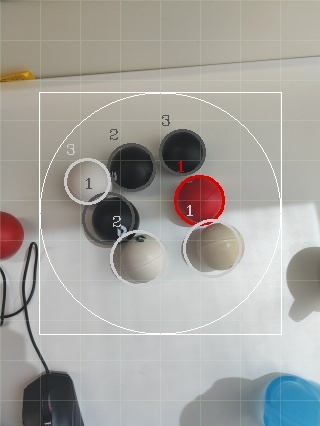Pelota blanca: (180, 220, 246, 275), (108, 230, 169, 286), (177, 377, 246, 425), (284, 244, 320, 323), (63, 156, 113, 206)
Pelota negra: (20, 371, 84, 425), (82, 193, 139, 248), (263, 371, 320, 425), (106, 142, 155, 192), (159, 126, 206, 174)
Pelota roja: (172, 172, 227, 224), (0, 209, 25, 262)
